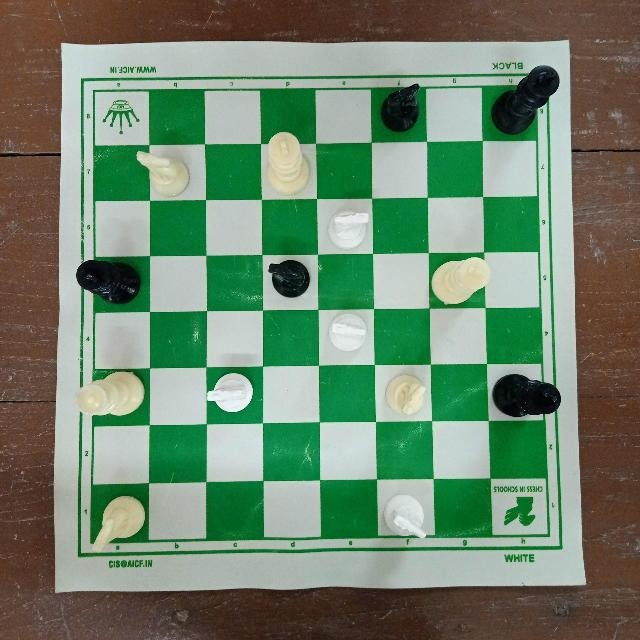black-king: (485, 60, 564, 140), (70, 254, 146, 310), (489, 368, 569, 420)
black-knight: (376, 80, 428, 139), (262, 256, 314, 305)
white-king: (259, 128, 310, 197), (429, 254, 493, 306)
white-knight: (132, 143, 196, 202), (86, 494, 147, 554), (384, 486, 434, 546), (323, 201, 373, 256), (202, 370, 258, 416), (323, 310, 375, 359), (382, 373, 432, 423)
white-queen: (69, 371, 149, 420)
